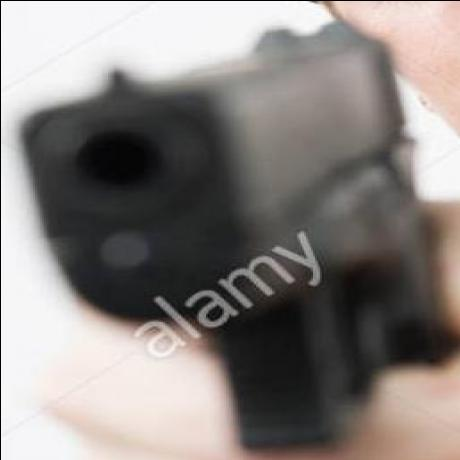weapon: (17, 19, 446, 444)
